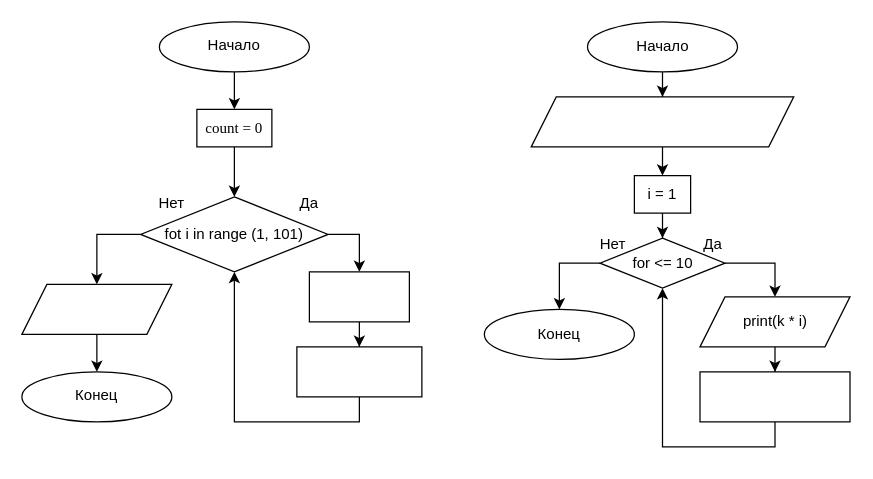
Image size: 873x479. Some labels were removed from this diagram. Each missing label, with the centre of its shape:
count = count + 1: point 359,371
i % 2 = 0: point 358,296
i = i + 1: point 774,396
k = int(input("Введите число: ")): point 662,121
print(count): point 96,308
